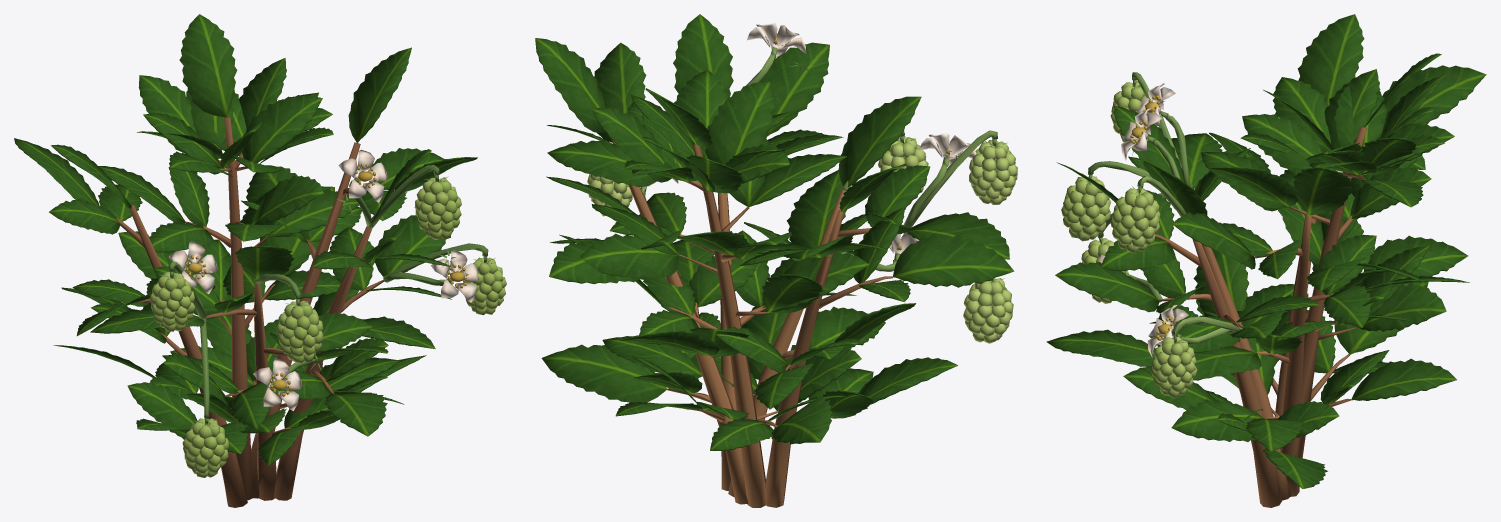
The model's file is NP_Blackberry_Flowering.fbx.
The picture shows the model from 3 angles, left to right: view 1: azimuth 30°, elevation 25°; view 2: azimuth 150°, elevation 25°; view 3: azimuth 270°, elevation 25°; orthographic projection. The views are drawn at different scales.
Visible parts, largest first — view 1: NP_Blackberry_Flowering; view 2: NP_Blackberry_Flowering; view 3: NP_Blackberry_Flowering.
Boxes of the visible parts, bbox=[...] form: NP_Blackberry_Flowering: bbox=[14, 14, 506, 507]; NP_Blackberry_Flowering: bbox=[535, 14, 1017, 507]; NP_Blackberry_Flowering: bbox=[1046, 14, 1486, 507].
Bounding box in the file's own units: 75.78 × 75.6 × 67.2.
1 material, 1 textured.
